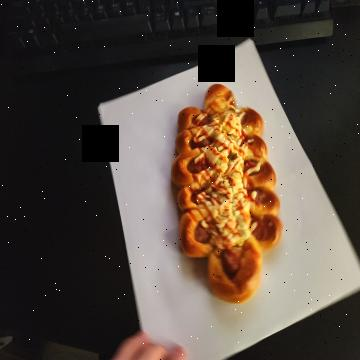pizza_bread: (171, 82, 282, 307)
